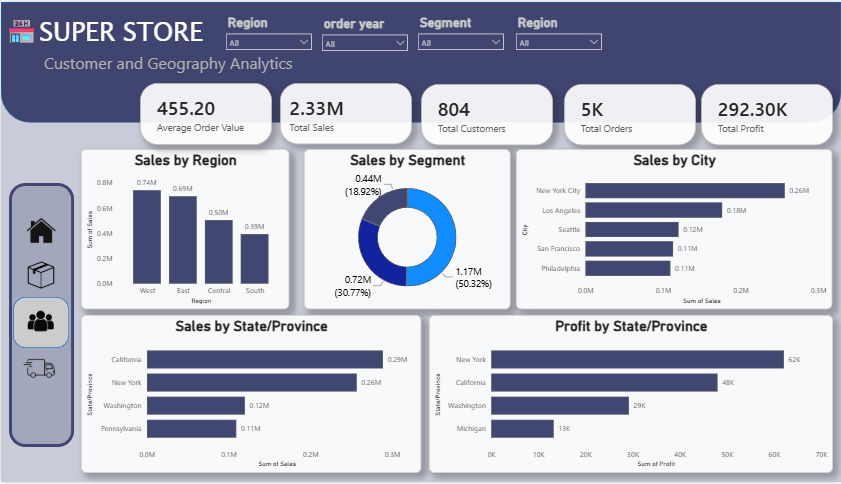

The dashboard page shown, as its layout file describes it:
{"tool":"powerbi","page":{"name":"Customer and Geographic intelligence Dashboard","canvas":[1400,800],"ordinal":2},"visuals":[{"type":"textbox","box":[66.7,133.3,75,70],"z":0},{"type":"shape","box":[12.9,301.4,108.6,440],"z":1000},{"type":"columnChart","title":"Sales by Region","fields":{"Category":["Orders.Region"],"Y":["Sum(Orders.Sales)"]},"box":[132.9,244.3,347.1,267.1],"z":2000},{"type":"shape","box":[0,0,1400,201.4],"z":3000},{"type":"textbox","box":[0,12.9,364.3,78.6],"z":4000},{"type":"slicer","fields":{"Values":["Orders.Segment"]},"box":[685.7,17.1,162.9,72.9],"z":5000},{"type":"slicer","fields":{"Values":["Orders.order year"]},"box":[525,18,163,73],"z":6000},{"type":"textbox","box":[67.1,78.6,441.4,55.7],"z":7000},{"type":"cardVisual","fields":{"Data":["Orders.Average Order Value"]},"box":[231.4,135.7,220,102.9],"z":8000},{"type":"cardVisual","fields":{"Data":["Sum(Orders.Sales)"]},"box":[465.4,135.4,220,102.3],"z":9000},{"type":"cardVisual","fields":{"Data":["Orders.Total Orders"]},"box":[938.5,136.9,220,101.5],"z":10000},{"type":"cardVisual","fields":{"Data":["Count(Orders.Customer ID)"]},"box":[700,136.9,220,101.5],"z":11000},{"type":"shape","box":[20,491.7,93.3,85],"z":11500},{"type":"cardVisual","fields":{"Data":["Sum(Orders.Profit)"]},"box":[1166.2,136.9,220,101.5],"z":12000},{"type":"image","box":[37.1,577.1,54.3,68.6],"z":13000},{"type":"image","box":[34.3,347.1,64.3,68.6],"z":14000},{"type":"image","box":[37.1,415.7,60,80],"z":15000},{"type":"image","box":[37.1,497.1,58.6,70],"z":16000},{"type":"slicer","fields":{"Values":["Orders.Region"]},"box":[848.6,17.1,162.9,72.9],"z":17000},{"type":"donutChart","title":"Sales by Segment","fields":{"Category":["Orders.Segment"],"Y":["Sum(Orders.Sales)"]},"box":[504.3,244.3,344.3,267.1],"z":18000},{"type":"clusteredBarChart","title":"Sales by City","fields":{"Y":["Sum(Orders.Sales)"],"Category":["Orders.City"]},"box":[858.6,244.3,527.1,267.1],"z":19000},{"type":"clusteredBarChart","title":"Sales by State/Province","fields":{"Y":["Sum(Orders.Sales)"],"Category":["Orders.State/Province"]},"box":[132.9,521.4,567.1,262.9],"z":20000},{"type":"clusteredBarChart","title":"Profit by State/Province","fields":{"Y":["Sum(Orders.Profit)"],"Category":["Orders.State/Province"]},"box":[712.9,521.4,672.9,262.9],"z":21000},{"type":"slicer","fields":{"Values":["Orders.Region"]},"box":[364.3,17.1,162.9,72.9],"z":22000}]}

Visuals, with their boxes in screenshot pixels (x1, y1, x2, y2), scaled from the page's 1400x800 canvas onto the 841x484 screenshot:
textbox: (40,81,85,123)
shape: (8,182,73,449)
"Sales by Region" columnChart: (80,148,288,309)
shape: (0,0,840,122)
textbox: (0,8,219,55)
slicer - Orders.Segment: (412,10,510,54)
slicer - Orders.order year: (315,11,413,55)
textbox: (40,48,305,81)
cardVisual - Orders.Average Order Value: (139,82,271,144)
cardVisual - Sum(Orders.Sales): (280,82,412,144)
cardVisual - Orders.Total Orders: (564,83,696,144)
cardVisual - Count(Orders.Customer ID): (421,83,553,144)
shape: (12,297,68,349)
cardVisual - Sum(Orders.Profit): (701,83,833,144)
image: (22,349,55,391)
image: (21,210,59,251)
image: (22,251,58,300)
image: (22,301,57,343)
slicer - Orders.Region: (510,10,608,54)
"Sales by Segment" donutChart: (303,148,510,309)
"Sales by City" clusteredBarChart: (516,148,832,309)
"Sales by State/Province" clusteredBarChart: (80,315,421,475)
"Profit by State/Province" clusteredBarChart: (428,315,832,475)
slicer - Orders.Region: (219,10,317,54)
